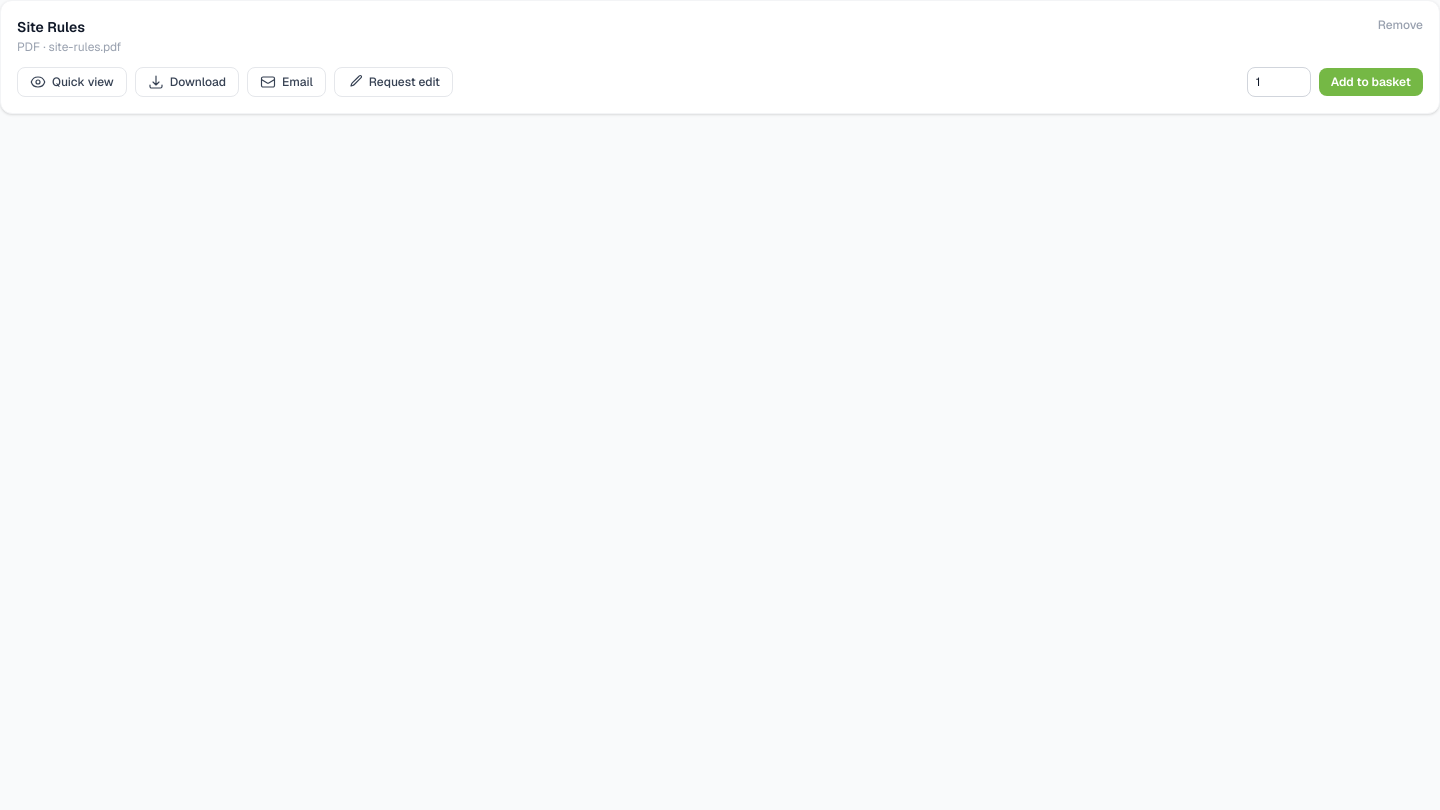
Scenario: confirming a print order gives unmistakable feedback › a failed submit keeps the basket and shows the error
Click the button "Add to basket" at (1371, 82), box [1319,68,1423,96]
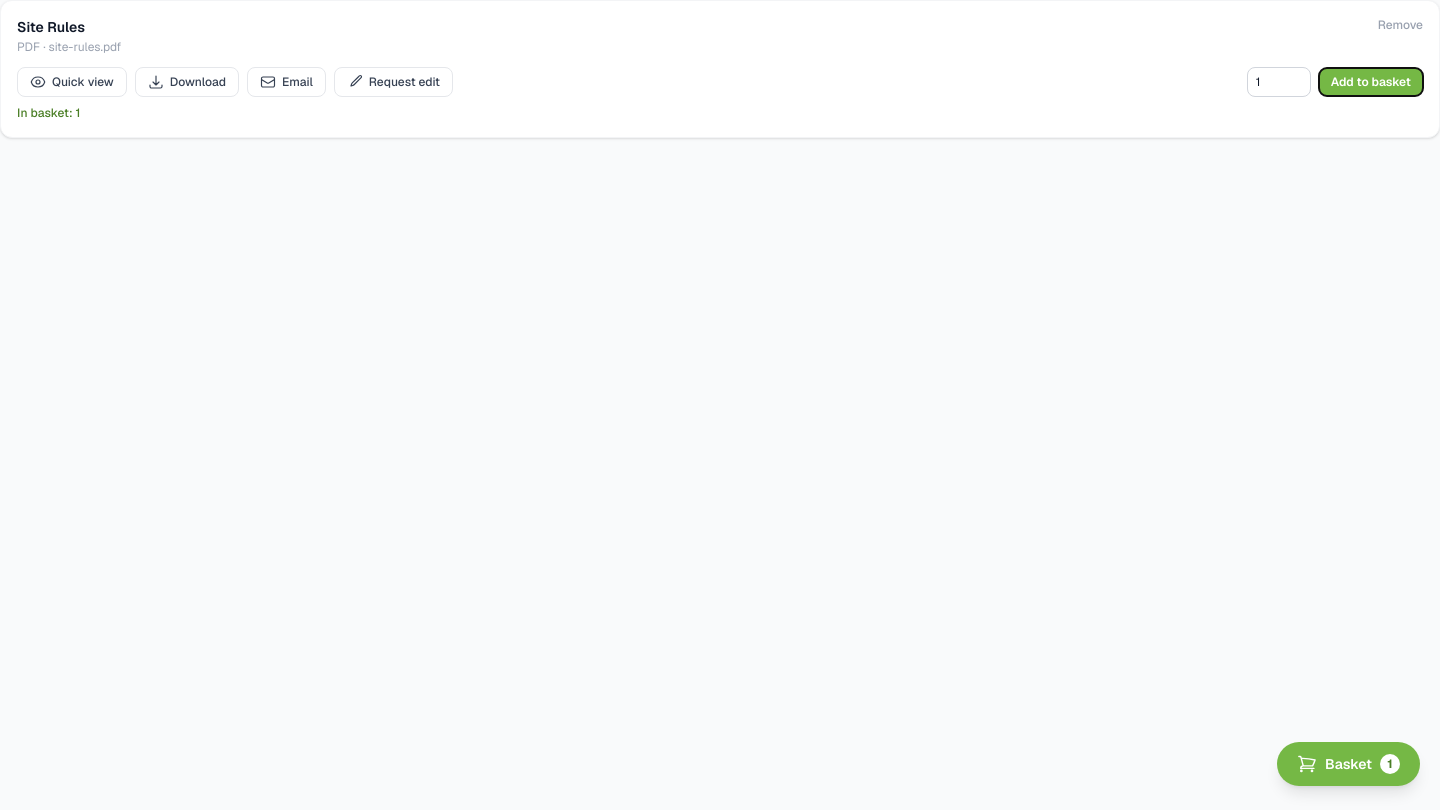
Click the button with aria-label "print basket, 1 document" at (1348, 764), box [1277,742,1420,786]
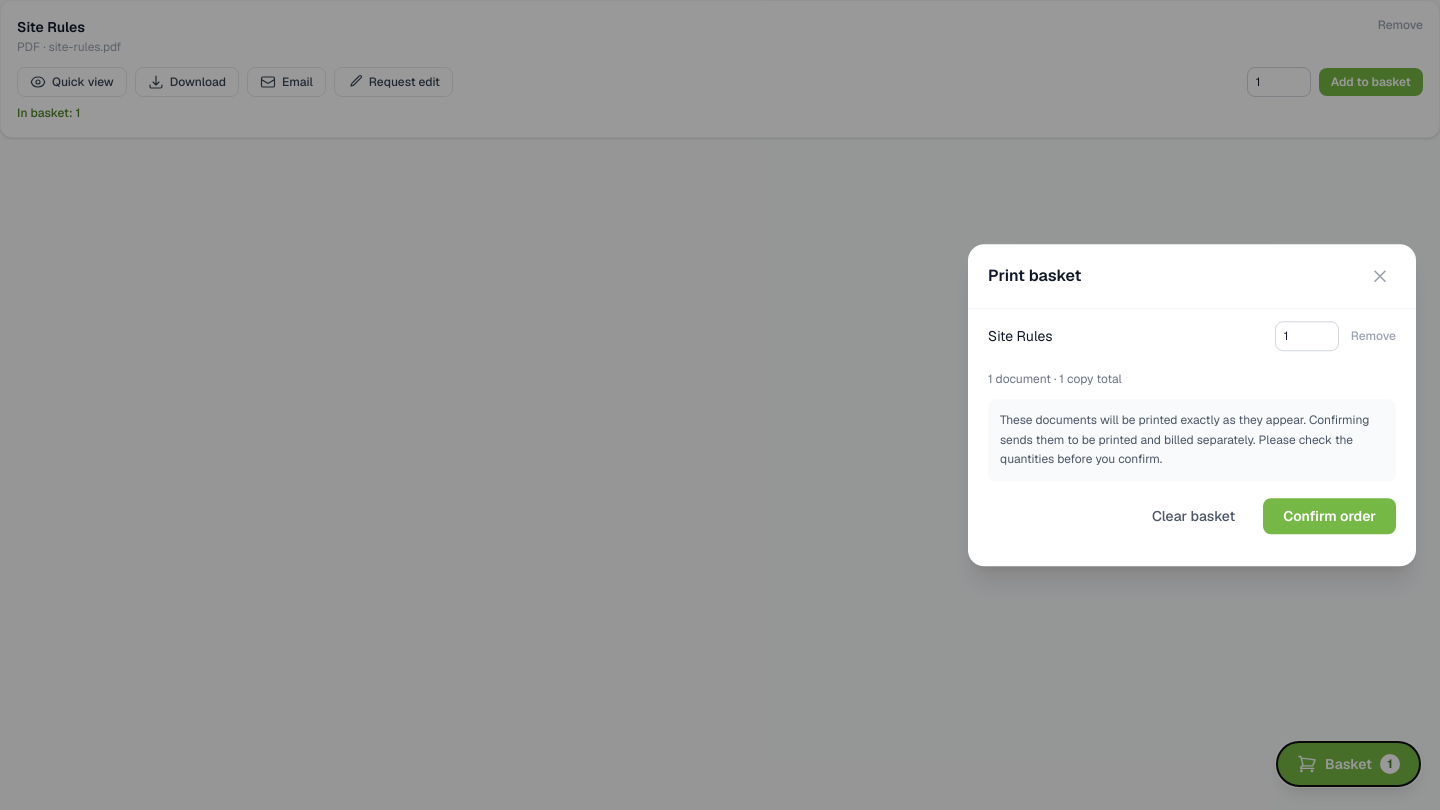
Click the button "Confirm order" at (1330, 516), box [1263,498,1396,534]
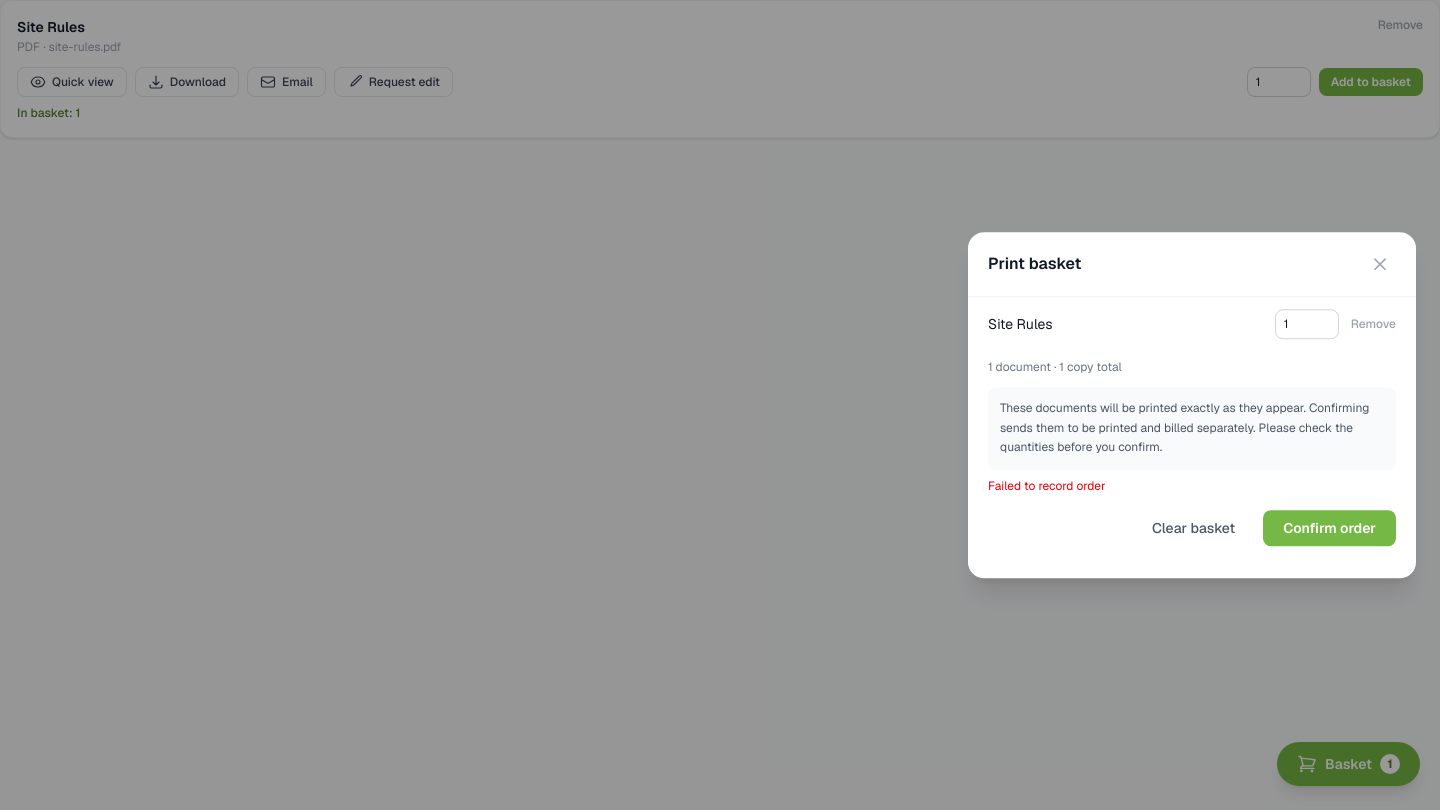
Result: the text "1 document · 1 copy total" is shown at [988,359,1122,375]
Result: the text "Failed to record order" is shown at [988,478,1106,494]
